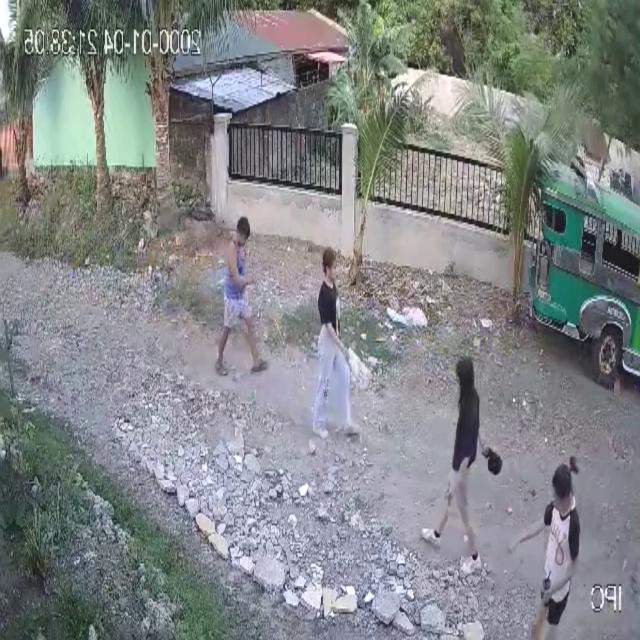walking: (419, 349, 510, 582), (307, 240, 383, 454), (510, 452, 586, 640), (212, 209, 268, 385)
